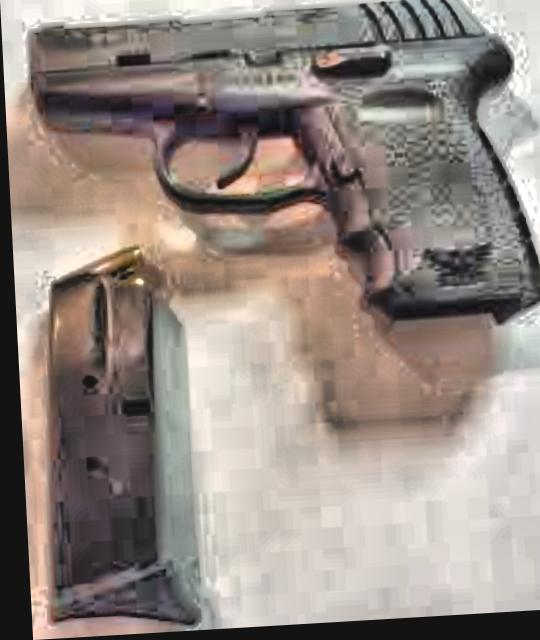pistol: (19, 0, 540, 356)
